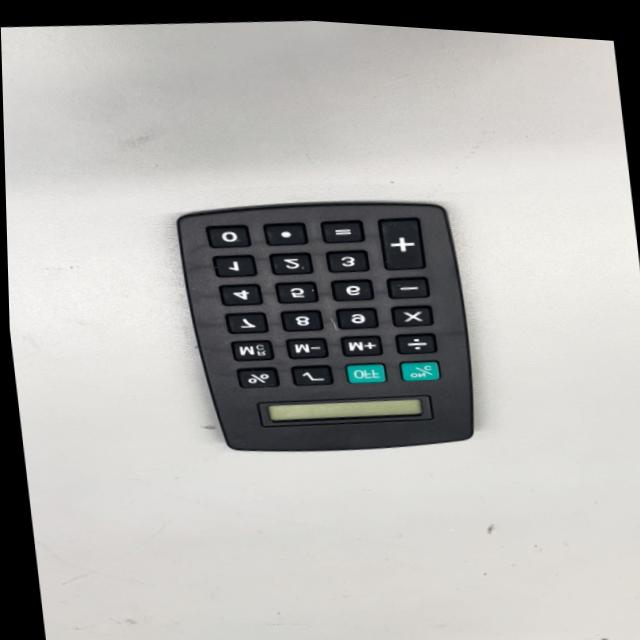calculator: (160, 170, 492, 492)
